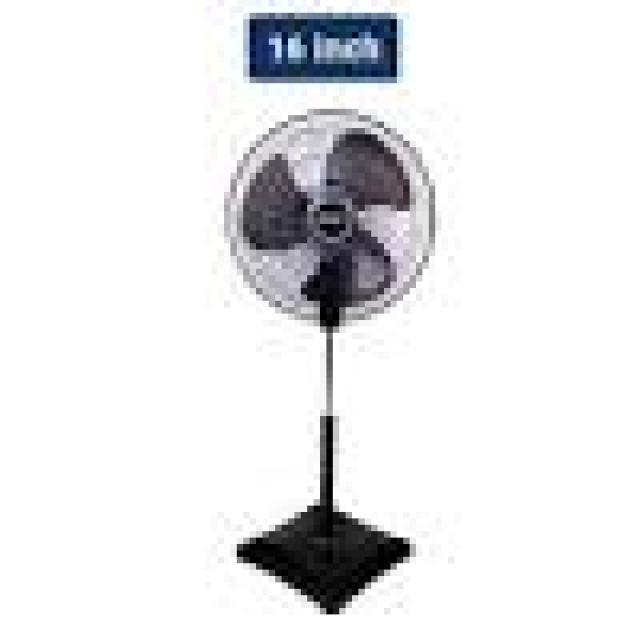fan: (212, 94, 456, 625)
